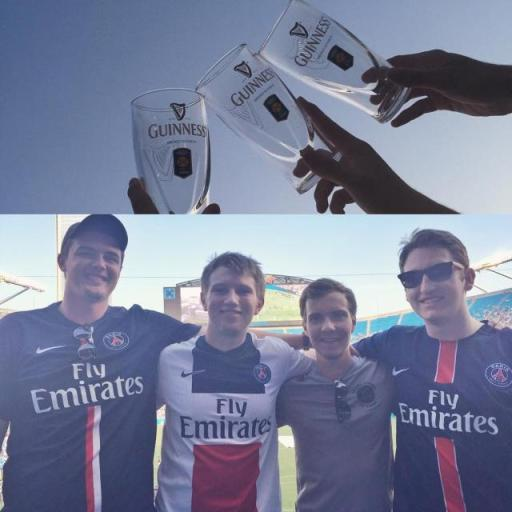Emirates: (28, 362, 144, 415)
